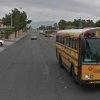Bus: (49, 23, 100, 85)
